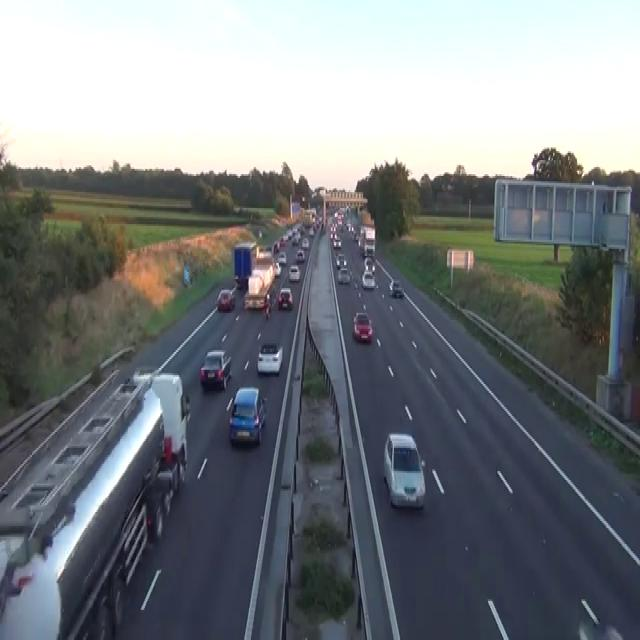Car: (383, 432, 425, 508), (226, 386, 267, 446), (200, 349, 231, 391), (256, 341, 283, 375), (352, 311, 372, 343), (132, 364, 158, 386), (217, 288, 235, 311), (277, 286, 293, 310), (388, 279, 403, 297), (361, 270, 375, 288), (288, 263, 300, 281), (337, 266, 350, 282), (264, 292, 271, 320), (364, 258, 375, 274), (336, 252, 346, 268), (332, 236, 342, 249), (295, 249, 304, 263), (256, 245, 265, 258), (234, 274, 242, 288), (277, 251, 286, 263), (301, 236, 309, 249), (274, 262, 281, 276), (272, 240, 279, 252), (291, 233, 299, 243), (279, 235, 285, 245), (265, 246, 272, 254), (308, 228, 314, 235), (258, 228, 262, 238), (287, 230, 292, 238)
Truck: (0, 366, 189, 638), (243, 246, 275, 310), (233, 240, 257, 288), (358, 224, 375, 258), (302, 208, 316, 228)
